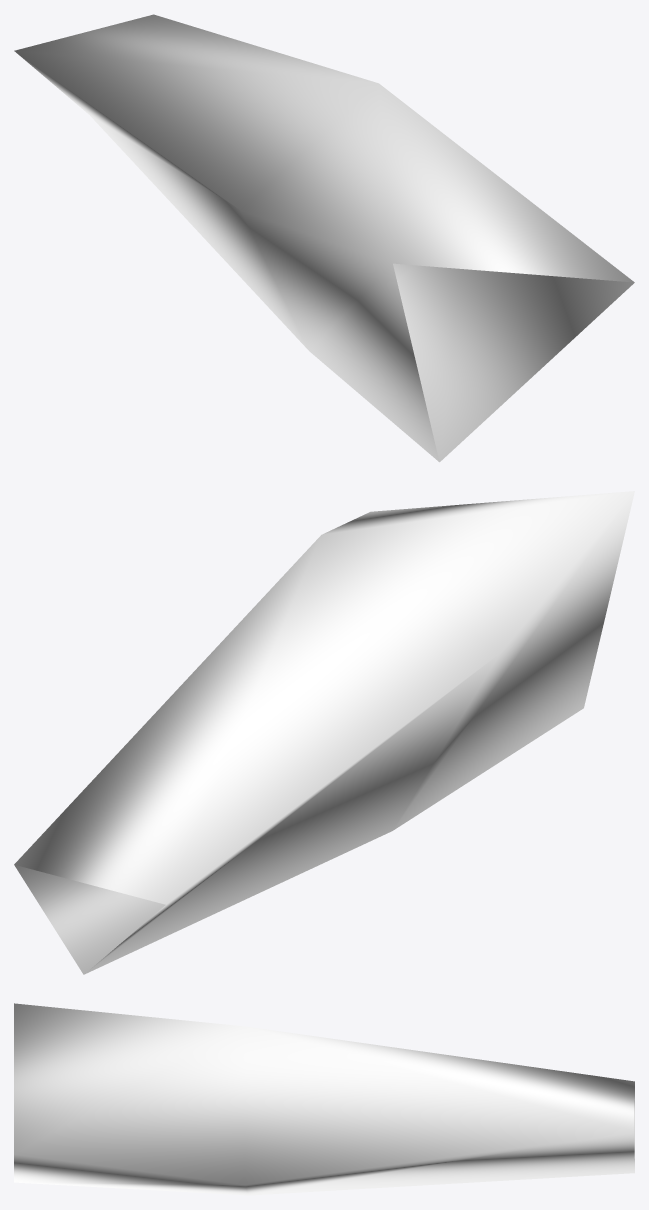
3 renders of one model, top to bottom at view 1: azimuth 30°, elevation 25°; view 2: azimuth 150°, elevation 25°; view 3: azimuth 270°, elevation 25°, orthographic. The views are drawn at different scales.
Bounding box in the file's own units: 0.0352 × 0.0332 × 0.096.
Materials: 1 (1 with a texture image).
